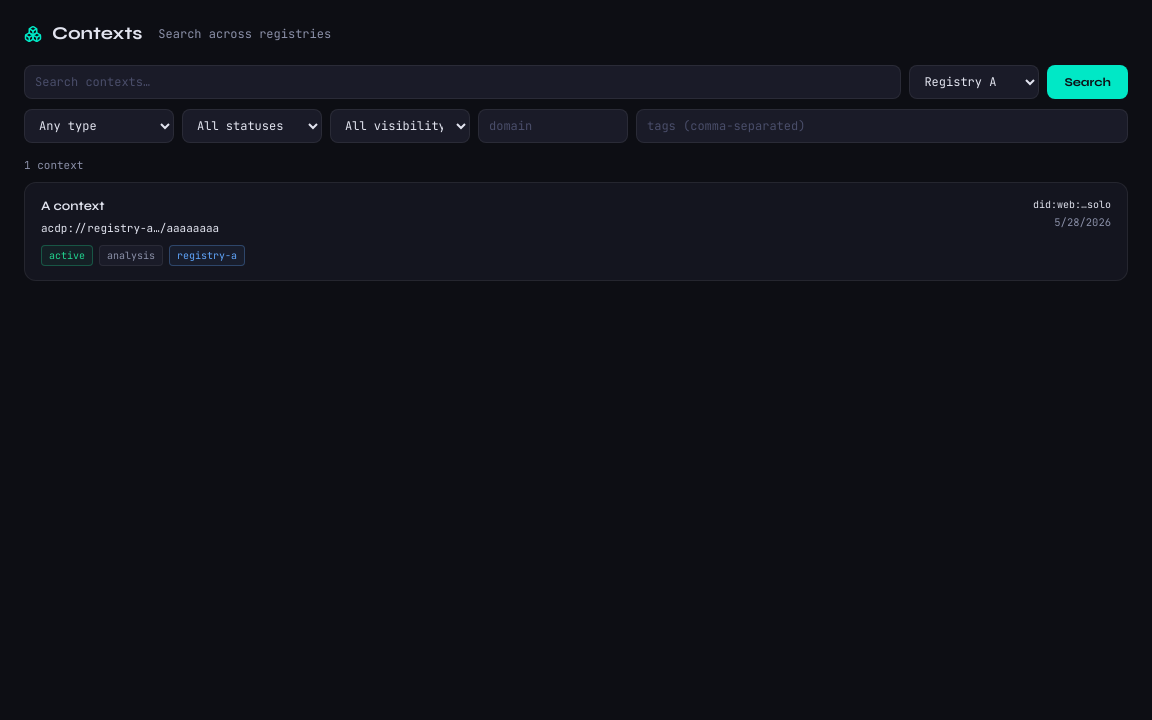
Scenario: CRITERION 5: /contexts and the run inspector render the same message › a 404 keeps /contexts' not-found affordance while saying the same words
Click the text "A context" at [73, 206], box x1=41 y1=198 x2=105 y2=214
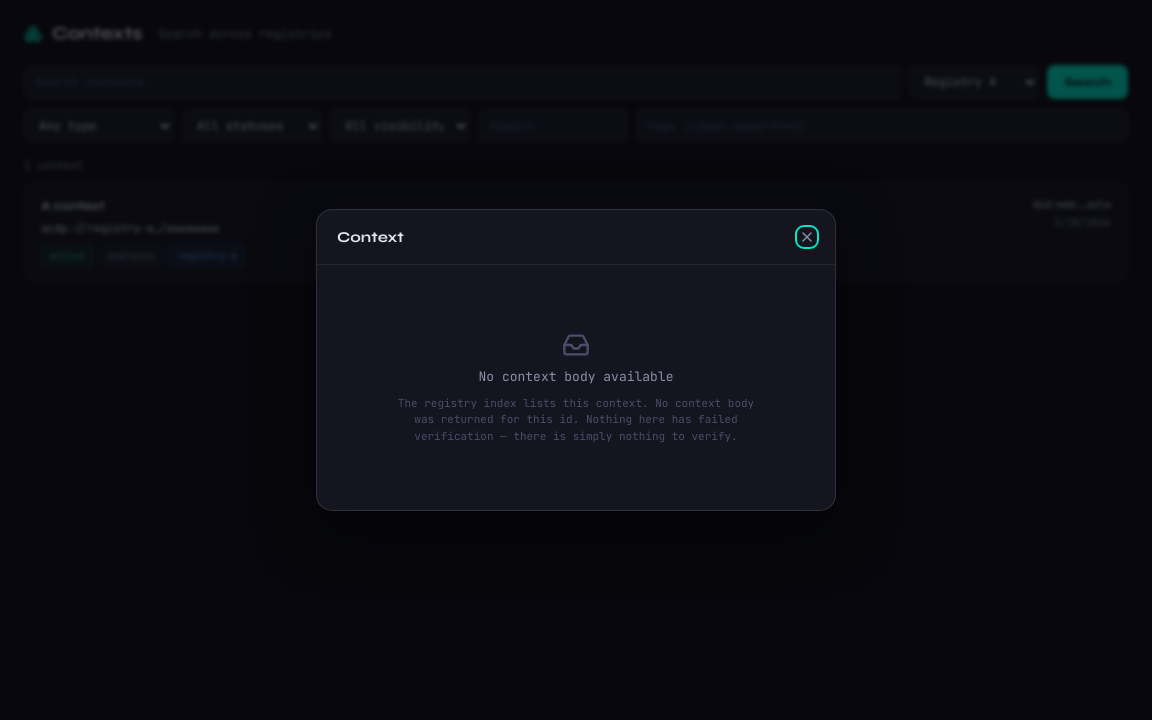
Expected: the text "No context body was returned for this id. Nothing here has failed verification — there is simply nothing to verify." is shown, x1=398 y1=396 x2=754 y2=443
Expected: the dialog shows "No context body available", x1=478 y1=368 x2=674 y2=385
